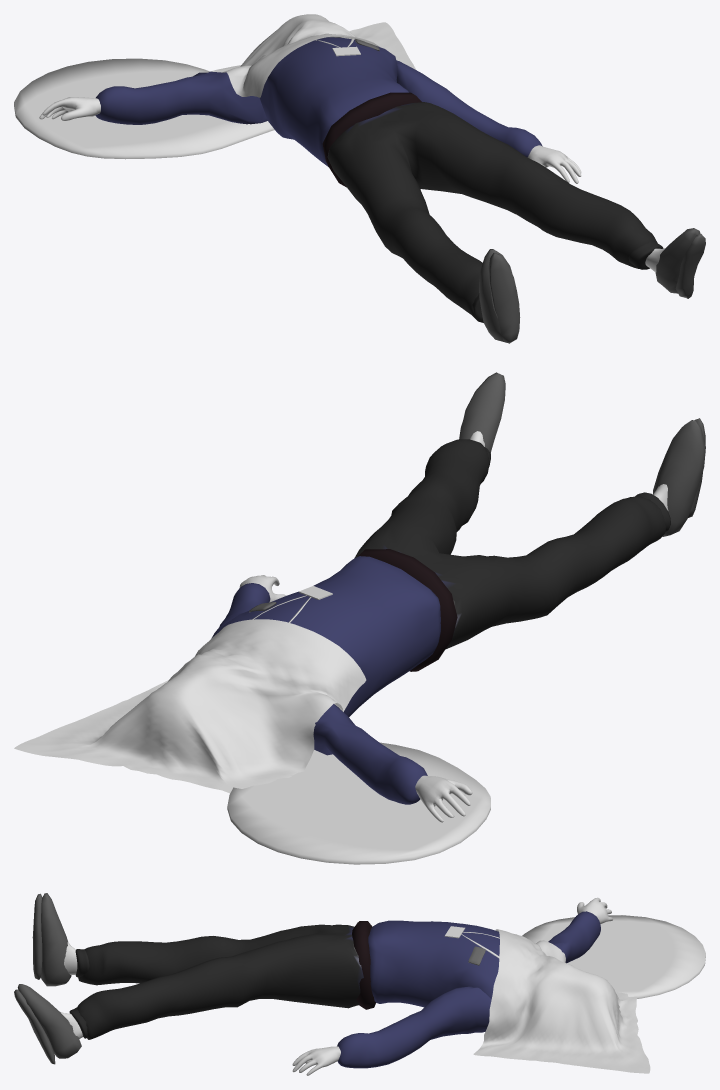
File: Env_Body.fbx
3 views of the same model, one above another, from view 1: azimuth 30°, elevation 25°; view 2: azimuth 150°, elevation 25°; view 3: azimuth 270°, elevation 25° (orthographic). The views are drawn at different scales.
Parts seen in each view (by area): view 1: Clothes_3.001; view 2: Clothes_3.001; view 3: Clothes_3.001.
Part boxes in pixels (bbox=[...]): Clothes_3.001: bbox=[14, 14, 705, 343]; Clothes_3.001: bbox=[14, 372, 705, 864]; Clothes_3.001: bbox=[14, 893, 705, 1075].
Bounding box in the file's own units: 105 × 27.28 × 195.
